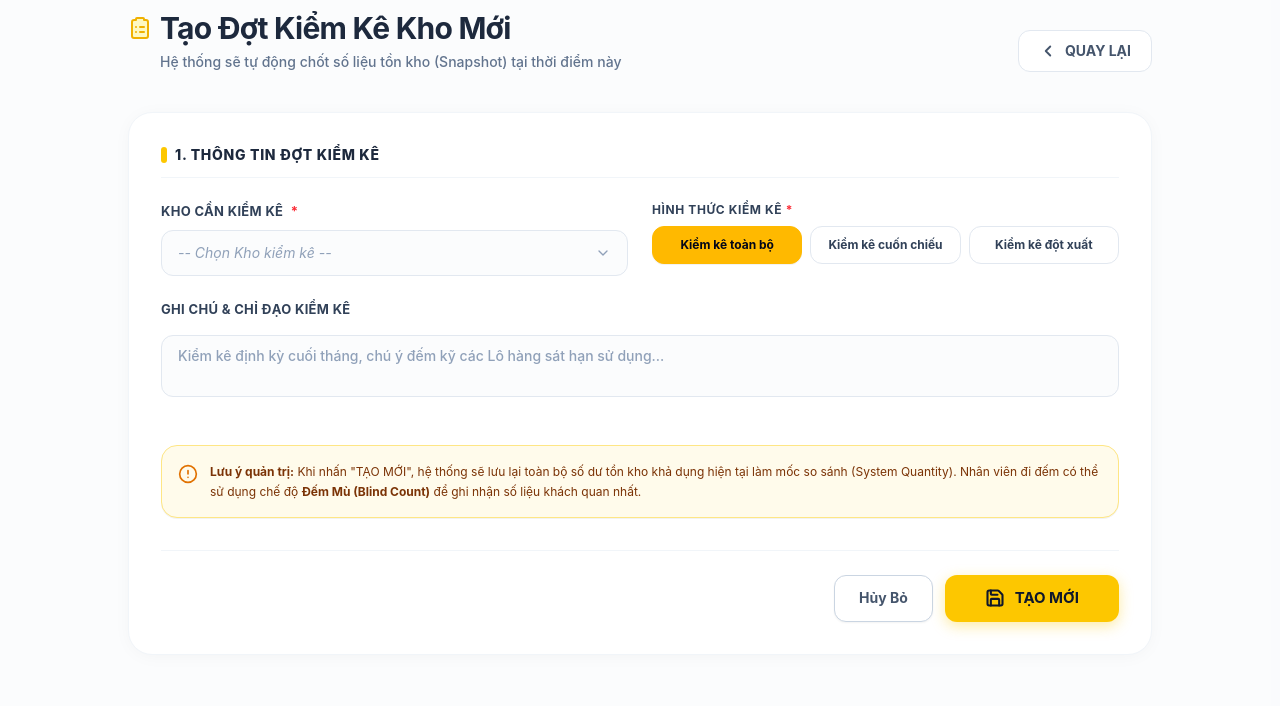
Test: Module 11 - InventoryAuditForm Component › TC03 - Chọn Kiểm kê đột xuất (Spot) hiển thị bảng Danh Sách Mặt Hàng Kiểm Kê
Expected: the text "Danh Sách Mặt Hàng Kiểm Kê" is not shown
// Click chọn Kiểm kê đột xuất
Click the button "Kiểm kê đột xuất" at (1044, 245), box left=969, top=226, right=1119, bottom=264
(page scrolled)
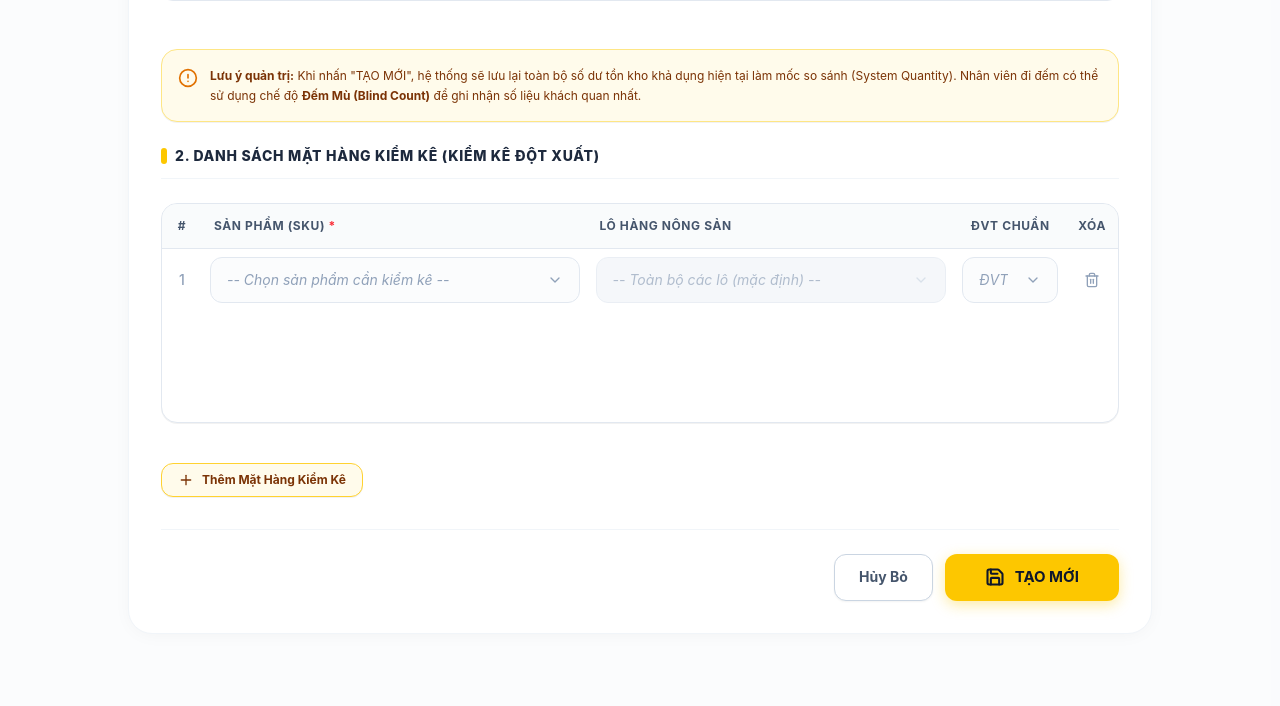
Expected: the heading "2. Danh Sách Mặt Hàng Kiểm Kê (Kiểm kê đột xuất)" is shown, left=161, top=147, right=600, bottom=164
Expected: the button "Thêm Mặt Hàng Kiểm Kê" is shown, left=161, top=463, right=363, bottom=497
